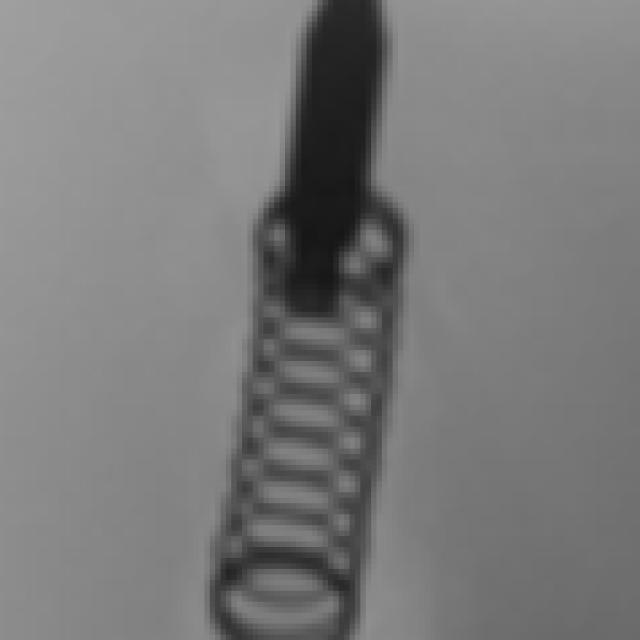GUN: (283, 1, 408, 340)
